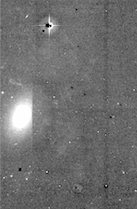Halpha: (41, 38, 106, 192), (11, 39, 36, 98)
